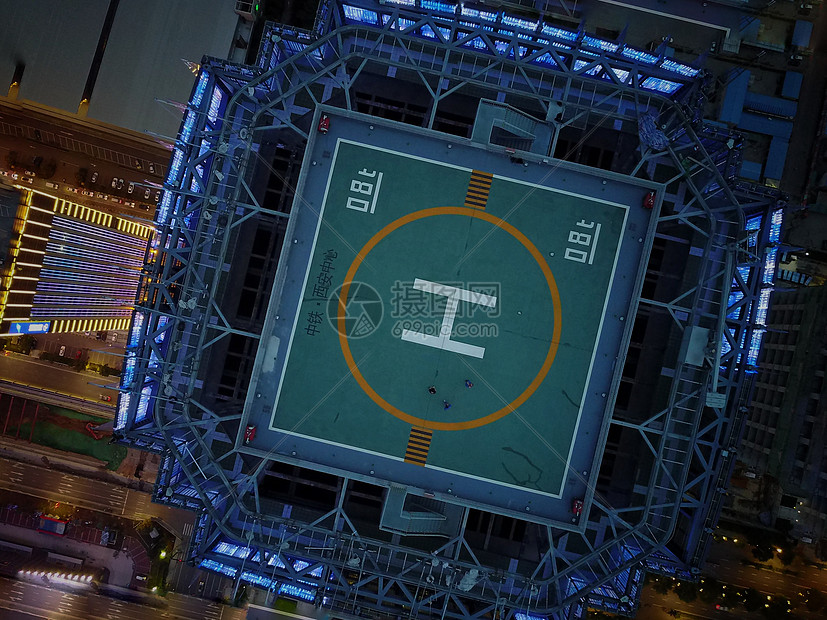Apron: (337, 207, 562, 433)
